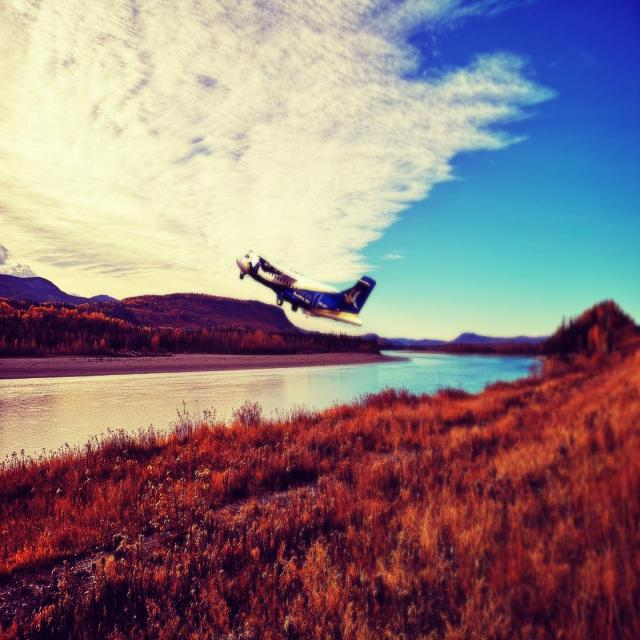airplane: (236, 249, 376, 326)
